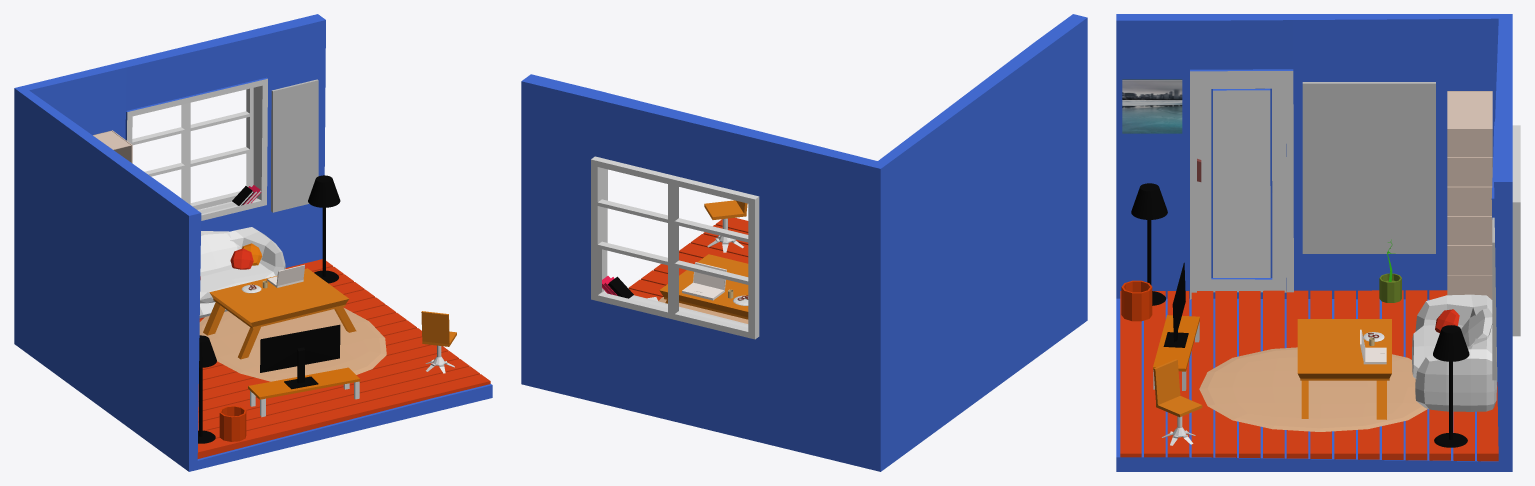
File: Dining Room.fbx
The picture shows the model from 3 angles, left to right: view 1: azimuth 30°, elevation 25°; view 2: azimuth 150°, elevation 25°; view 3: azimuth 270°, elevation 25°; orthographic projection. The views are drawn at different scales.
Visible parts, largest first — view 1: Cube, Cube.001, Cube.007, Cube.011, Cube.008, Cube.004, Cube.003, Cube.041_Cube.044, Cube.036_Cube.039, Circle, Cube.039, Cylinder.001_Cylinder.002 (+3 smaller); view 2: Cube, Cube.003, Cube.001, Cube.008, Cube.012, Cube.039; view 3: Cube, Cube.001, Cube.010, Cube.007, Cube.002, Cube.004, Cube.008, Cube.009, Cube.003, Circle, Cube.039, Circle.001 (+6 smaller).
Part boxes in pixels (<box>): Cube: <box>14,14,492,471</box>; Cube.001: <box>197,259,490,458</box>; Cube.007: <box>199,308,386,381</box>; Cube.011: <box>271,79,318,212</box>; Cube.008: <box>203,268,356,359</box>; Cube.004: <box>199,227,285,318</box>; Cube.003: <box>132,88,253,209</box>; Cube.041_Cube.044: <box>260,324,340,389</box>; Cube.036_Cube.039: <box>248,367,360,399</box>; Circle: <box>308,175,340,283</box>; Cube.039: <box>421,311,456,346</box>; Cylinder.001_Cylinder.002: <box>219,405,246,441</box>; Cube: <box>521,14,1087,471</box>; Cube.003: <box>591,156,759,339</box>; Cube.001: <box>628,217,748,300</box>; Cube.008: <box>659,254,748,319</box>; Cube.012: <box>682,262,726,300</box>; Cube.039: <box>704,200,747,219</box>; Cube: <box>1116,14,1512,471</box>; Cube.001: <box>1120,290,1498,461</box>; Cube.010: <box>1302,82,1435,253</box>; Cube.007: <box>1199,347,1427,431</box>; Cube.002: <box>1447,91,1492,299</box>; Cube.004: <box>1412,294,1497,411</box>; Cube.008: <box>1297,319,1391,419</box>; Cube.009: <box>1122,79,1182,133</box>; Cube.003: <box>1512,125,1520,336</box>; Circle: <box>1433,325,1469,447</box>; Cube.039: <box>1153,359,1202,417</box>; Circle.001: <box>1131,183,1167,305</box>.
Size of the model in its own units: 614 by 495 by 624.
